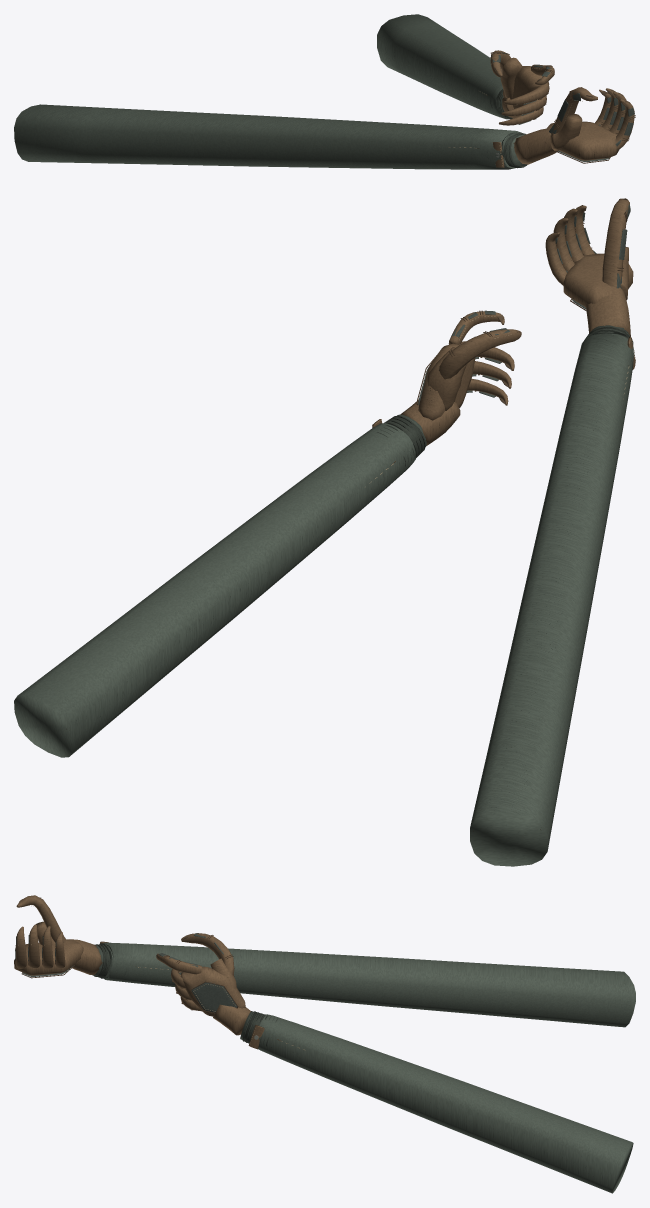
Rendered from hands-rifle.glb.
The picture shows the model from 3 angles, top to bottom: view 1: azimuth 30°, elevation 25°; view 2: azimuth 150°, elevation 25°; view 3: azimuth 270°, elevation 25°; orthographic projection. The views are drawn at different scales.
Visible parts, largest first — view 1: LeftHand, RightHand; view 2: LeftHand, RightHand; view 3: LeftHand, RightHand.
Boxes of the visible parts, bbox=[...] form: LeftHand: bbox=[14, 87, 635, 169]; RightHand: bbox=[377, 14, 554, 125]; LeftHand: bbox=[470, 198, 635, 866]; RightHand: bbox=[14, 310, 521, 757]; LeftHand: bbox=[14, 895, 635, 1027]; RightHand: bbox=[156, 933, 633, 1193].
Size of the model in its own units: 0.8038 by 0.4449 by 1.1.
Materials: 8 (6 with a texture image).
